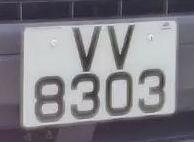0: (101, 67, 137, 120)
3: (66, 70, 105, 124), (134, 66, 169, 118)
8: (28, 67, 70, 129)
V: (65, 21, 107, 74), (100, 19, 139, 73)
